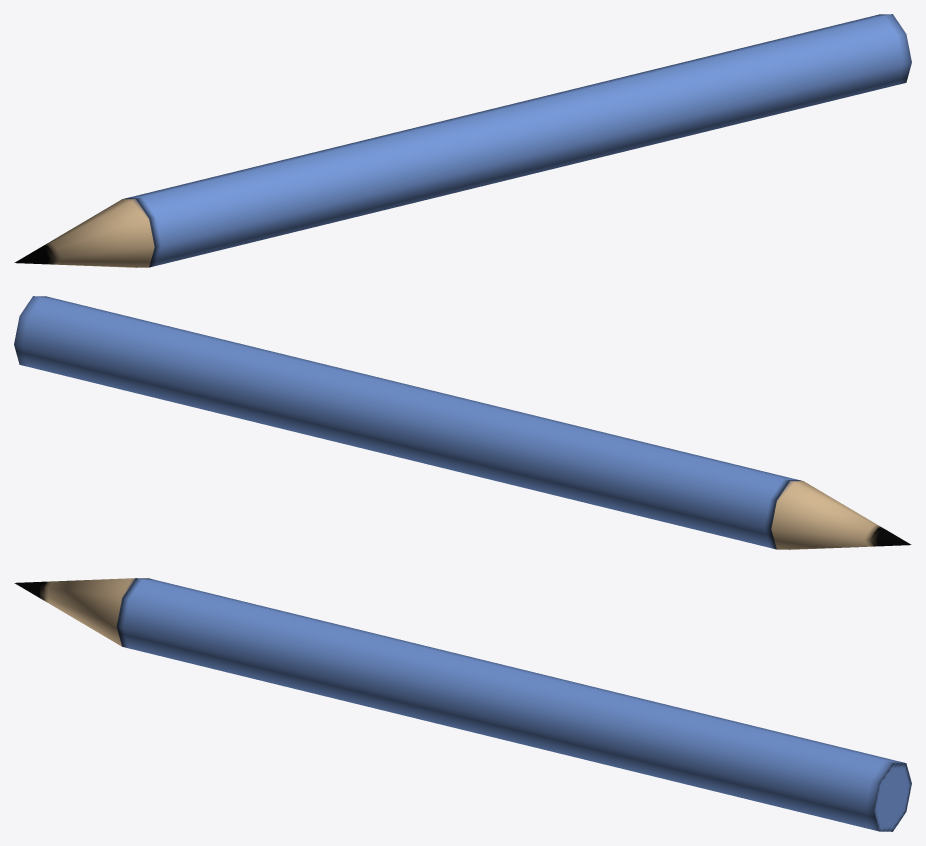
Rendered from pencil1.fbx.
3 views of the same model, one above another, from view 1: azimuth 30°, elevation 25°; view 2: azimuth 150°, elevation 25°; view 3: azimuth 330°, elevation 25° (orthographic).
Visible parts, largest first — view 1: polySurface430; view 2: polySurface430; view 3: polySurface430.
Boxes of the visible parts, x1,y1,x2,y2 form: polySurface430: (14,14,911,267); polySurface430: (14,296,911,549); polySurface430: (14,578,911,831).
Size of the model in its own units: 0.1847 by 0.0138 by 0.0138.
